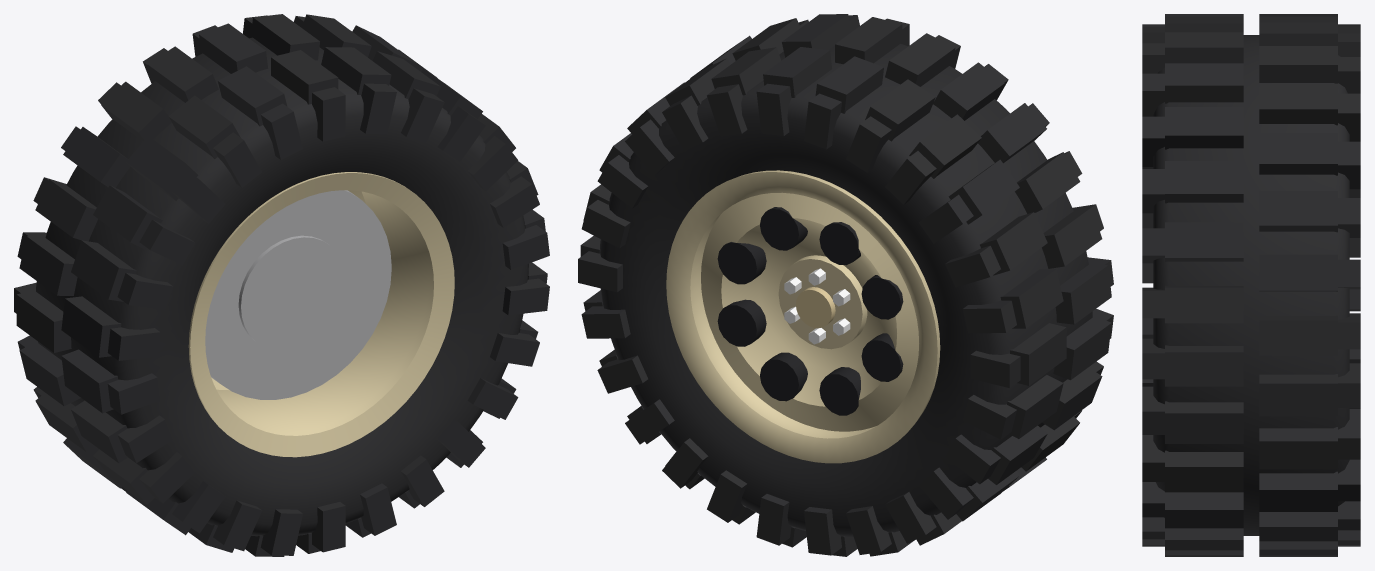
The model's file is SM_NajdiGXR_Wheel_F.fbx.
3 views of the same model, side by side, from view 1: azimuth 30°, elevation 25°; view 2: azimuth 150°, elevation 25°; view 3: azimuth 270°, elevation 25° (orthographic). The views are drawn at different scales.
Visible parts, largest first — view 1: Wheel_FL; view 2: Wheel_FL; view 3: Wheel_FL.
Part boxes in pixels (box(x1,y1,x2,y2)): Wheel_FL: box(14, 14, 549, 556); Wheel_FL: box(578, 14, 1113, 556); Wheel_FL: box(1142, 14, 1360, 556).
Size of the model in its own units: 80.06 by 80.06 by 32.26.
